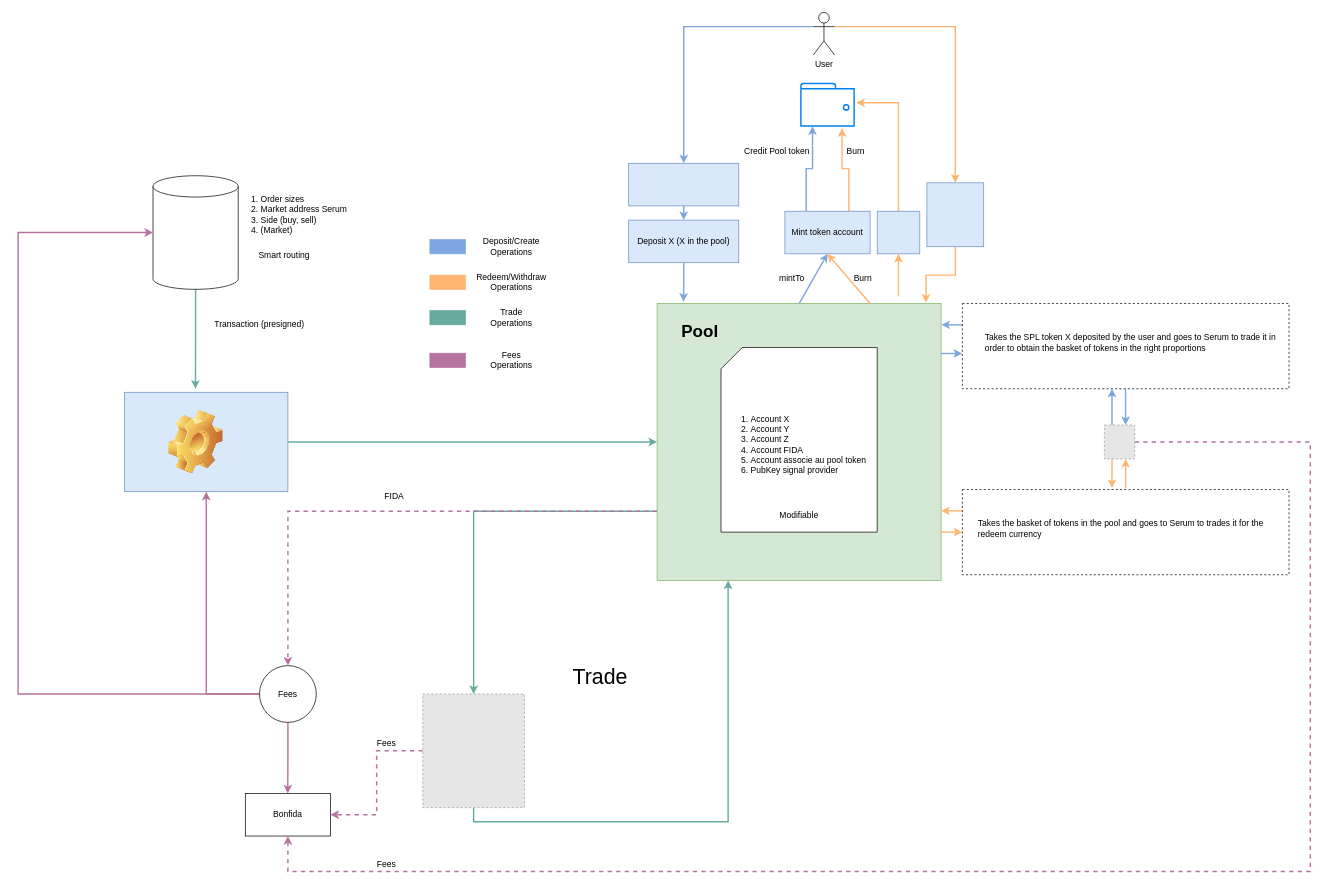
The diagram is 1328 pixels wide and 890 high, and some of its shapes have lost their labels. Grey dashed boxes stand in for pictures. The box of each missing label's shape, as (x1, y1, x2, y2) in pixels:
Redeem currency: (876, 211, 920, 254)
Redeem n tokens and select the redeem currency: (926, 182, 984, 247)
Select signal provider: (628, 163, 739, 206)
Signal provider: (152, 175, 238, 289)
